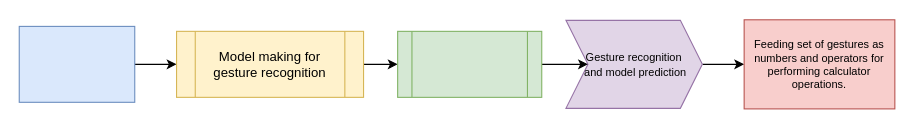
Image size: 914x128. Some labels were removed from this diagram. The shapes that lost their labels are listed below. From the top down, each one's centre as x and y in pixels, then its label:
(x=76, y=63): Create custom gestures using OpenCV
(x=469, y=63): Find and segment hand from video sequence
